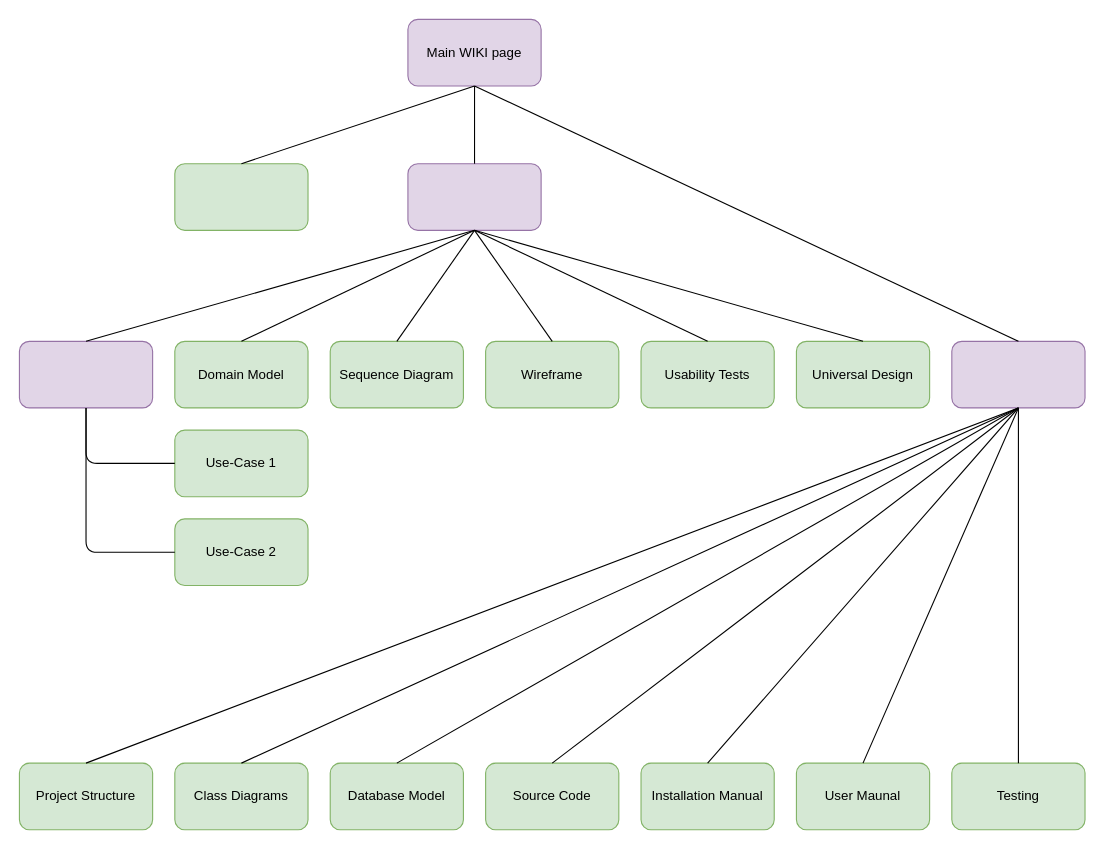
Image size: 1104x849. Some labels were removed from this diagram. The centre of each missing label's shape, as x and y in pixels:
"Requirements" belongs at pixel 474 196.
"System Documentation" belongs at pixel 1018 374.
"Use-Case Diagrams" belongs at pixel 85 374.
"Vision Document" belongs at pixel 241 196.
